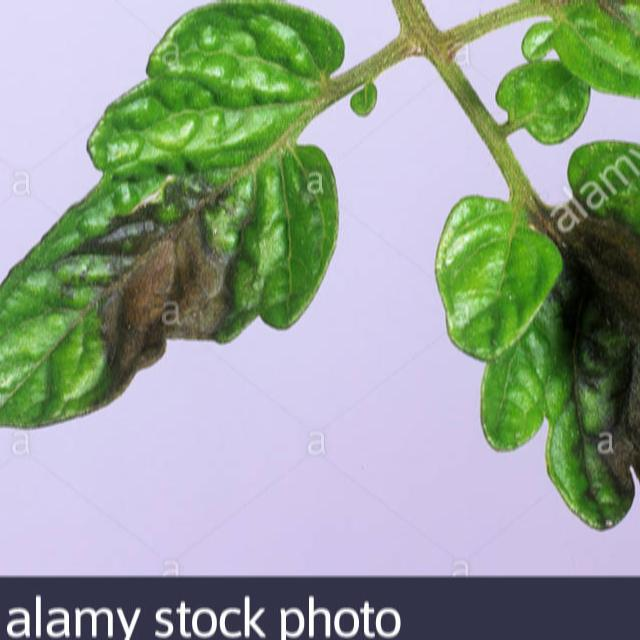Tomato leaf late blight: (0, 0, 373, 456), (420, 122, 640, 551), (500, 0, 640, 148)
